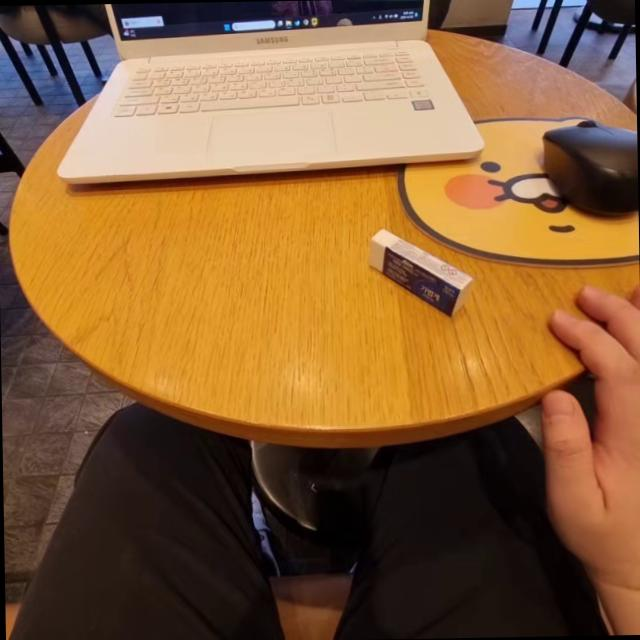eraser: (360, 227, 478, 322)
hand: (541, 271, 640, 573)
mouse: (538, 104, 638, 233)
